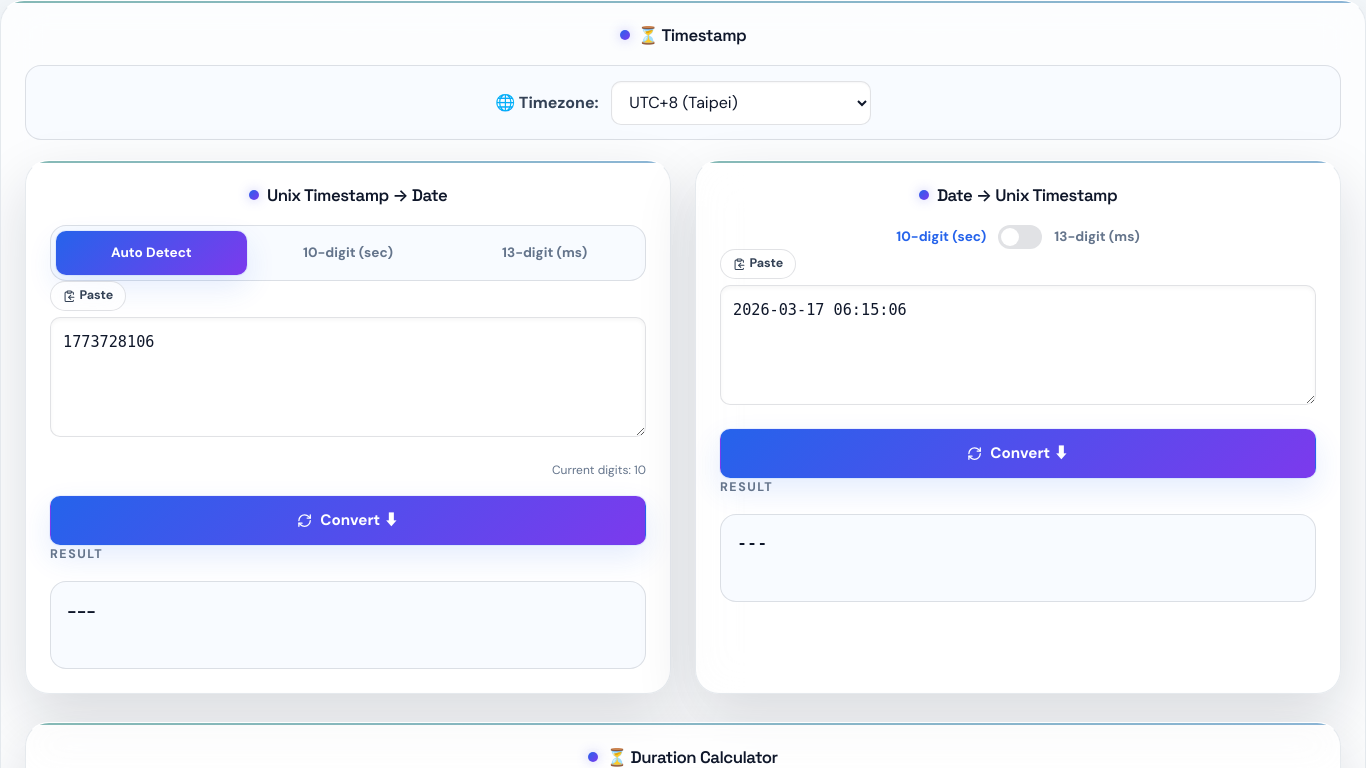
it: TimestampConverter.vue › 輸入驗證與邊際情況 › 應限制輸入長度為 15 位
This screenshot has width=1366, height=768.
Replace the text in the text box with id "timestamp-input" with "1234567890123456789" at (348, 377), box [50, 317, 646, 437]
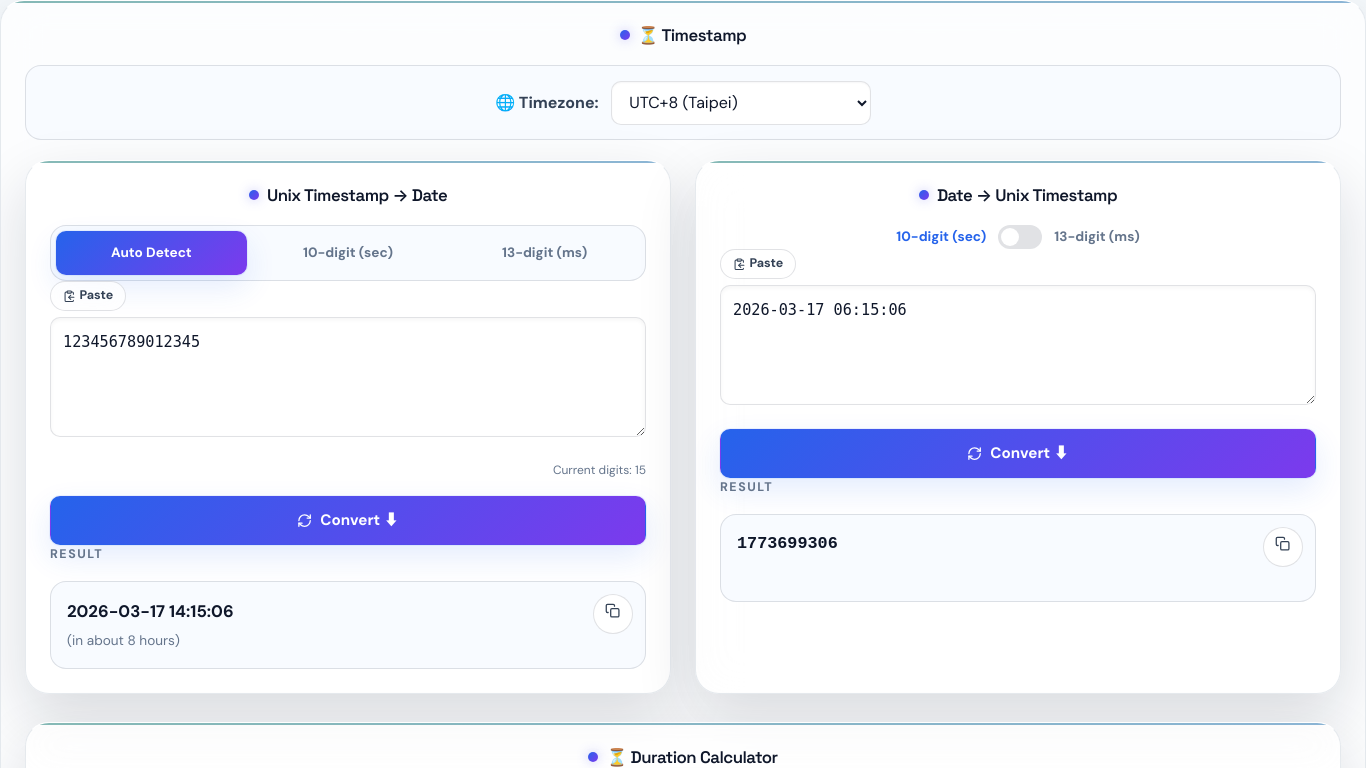
expect the text box with id "timestamp-input" holds "123456789012345": met, box [50, 317, 646, 437]
